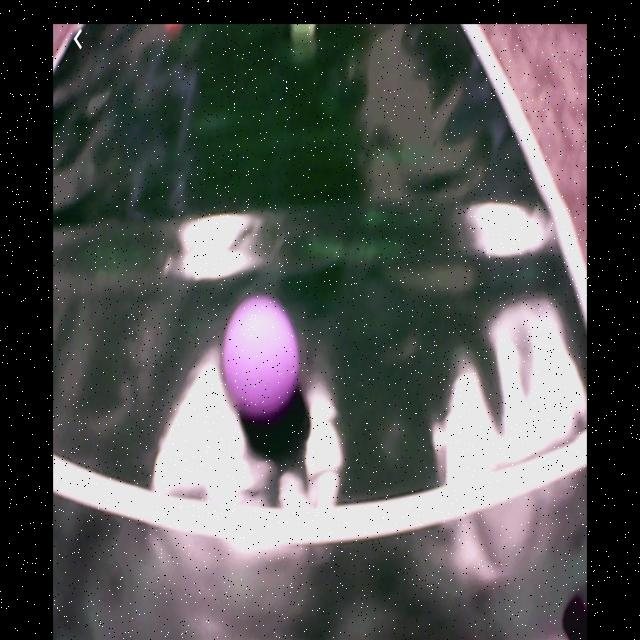ball: (223, 299, 301, 415)
